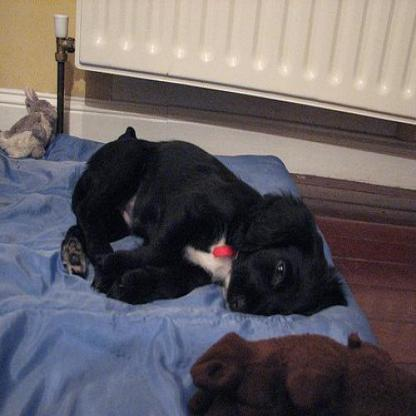cocker_spaniel: (58, 124, 346, 313)
